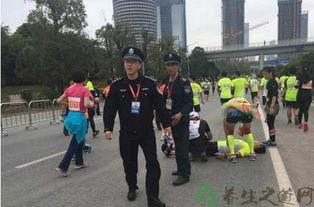10+: (54, 47, 312, 206)
down: (160, 135, 269, 159)
